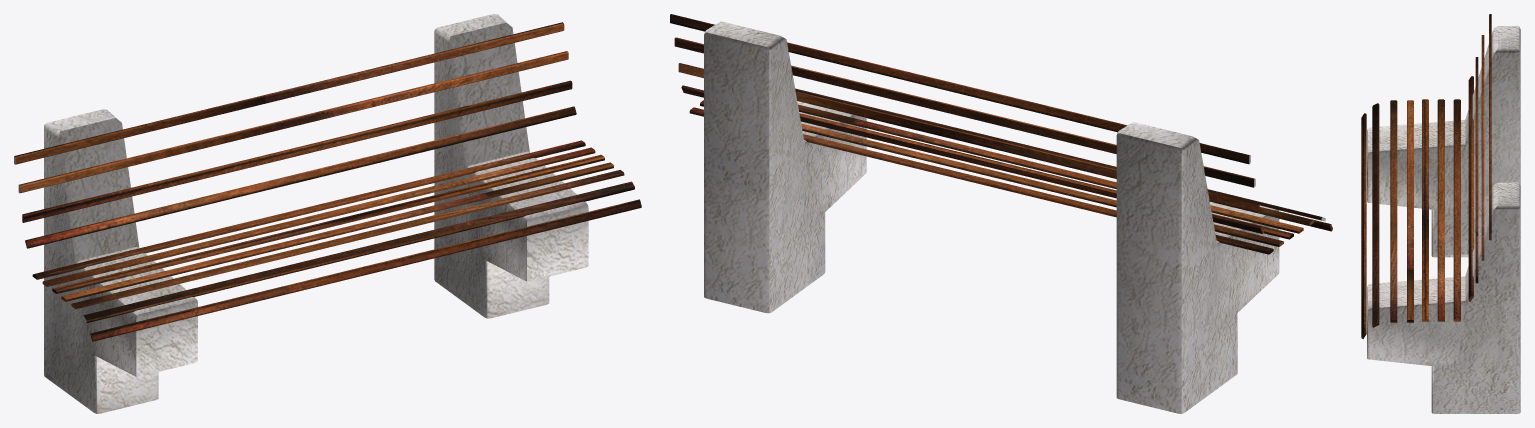
The model's file is bench2.FBX.
The picture shows the model from 3 angles, left to right: view 1: azimuth 30°, elevation 25°; view 2: azimuth 150°, elevation 25°; view 3: azimuth 270°, elevation 25°; orthographic projection. The views are drawn at different scales.
Parts seen in each view (by area): view 1: Law2_L0; view 2: Law2_L0; view 3: Law2_L0.
Boxes of the visible parts, x1,y1,x2,y2 form: Law2_L0: (14, 14, 641, 413); Law2_L0: (670, 14, 1332, 413); Law2_L0: (1361, 14, 1520, 413).
Bounding box in the file's own units: 20.97 × 9.23 × 6.42.
Materials: 1 (1 with a texture image).
